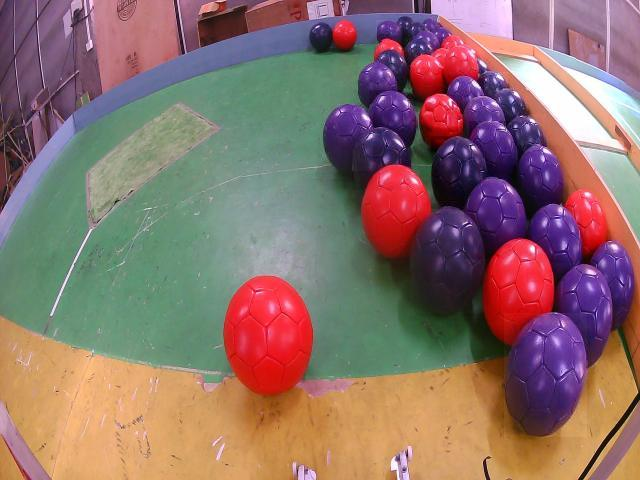jambhalya: (505, 313, 587, 437), (554, 263, 612, 366), (464, 179, 526, 259), (527, 204, 582, 283), (590, 240, 635, 330), (516, 145, 564, 213), (324, 105, 373, 171), (470, 121, 517, 180), (370, 90, 417, 148), (358, 62, 398, 108), (464, 97, 506, 138), (447, 75, 484, 114), (377, 20, 402, 43), (415, 30, 441, 50), (434, 27, 451, 43), (424, 19, 439, 32), (377, 22, 387, 33), (377, 35, 390, 41)
kaalyya: (410, 207, 485, 313), (431, 136, 489, 209), (353, 126, 411, 190), (507, 115, 545, 157), (377, 50, 408, 91), (495, 88, 528, 125), (405, 38, 433, 67), (478, 72, 508, 98), (309, 23, 332, 52), (406, 22, 427, 42), (397, 17, 412, 39), (477, 59, 489, 74)
